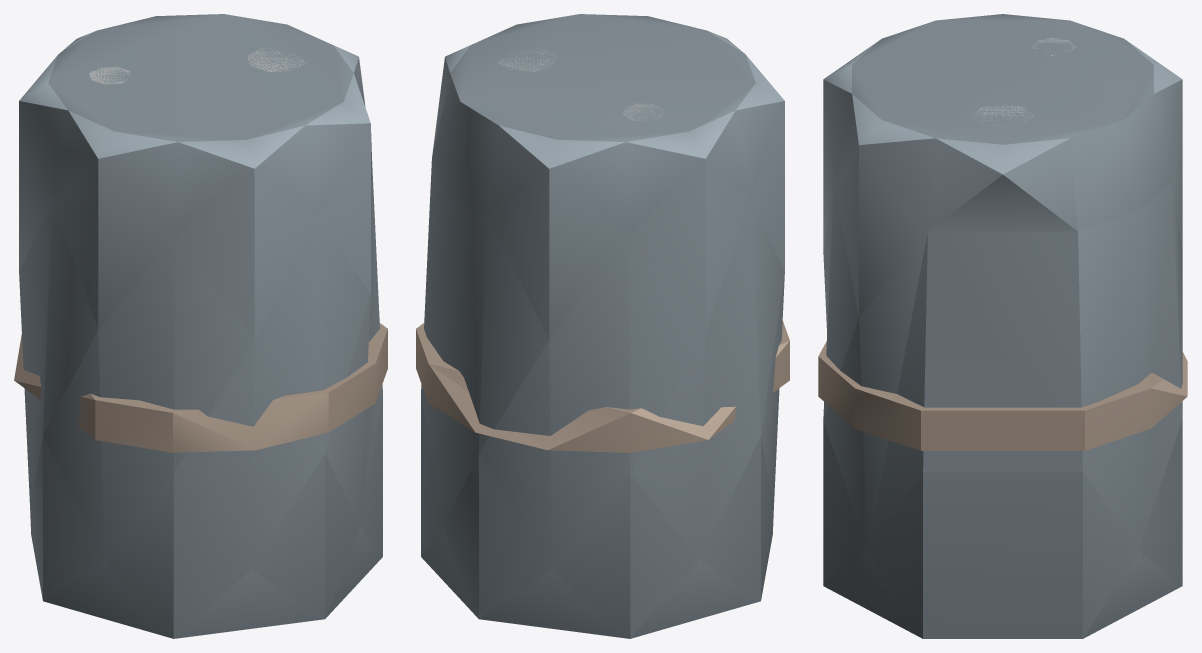
The model's file is drum.lod1.glb.
3 views of the same model, side by side, from view 1: azimuth 30°, elevation 25°; view 2: azimuth 150°, elevation 25°; view 3: azimuth 270°, elevation 25° (orthographic).
Bounding box in the file's own units: 0.58 × 0.85 × 0.5811.
